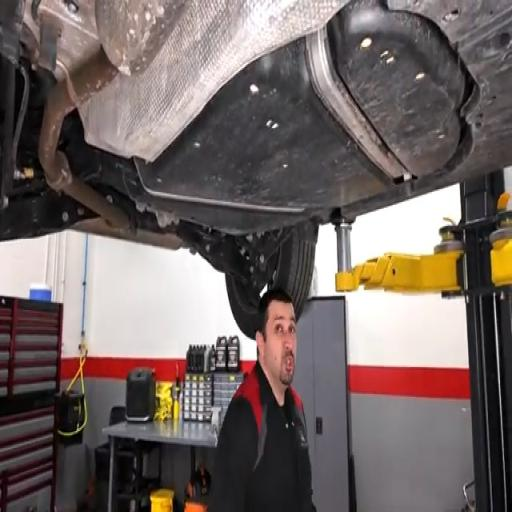exhaust: (90, 4, 302, 138)
wheel: (267, 231, 315, 319)
